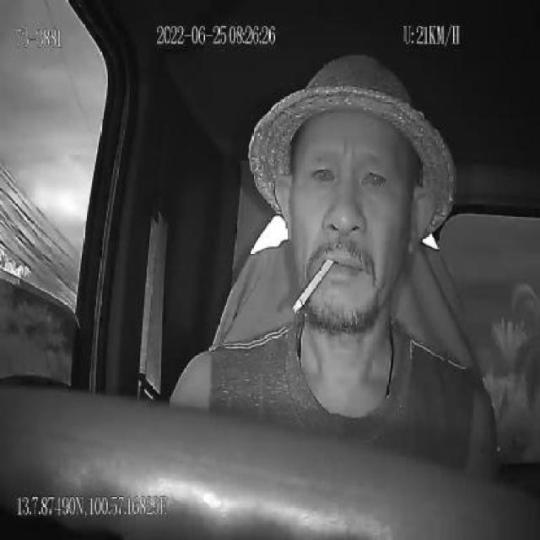smoking: (294, 256, 332, 316)
